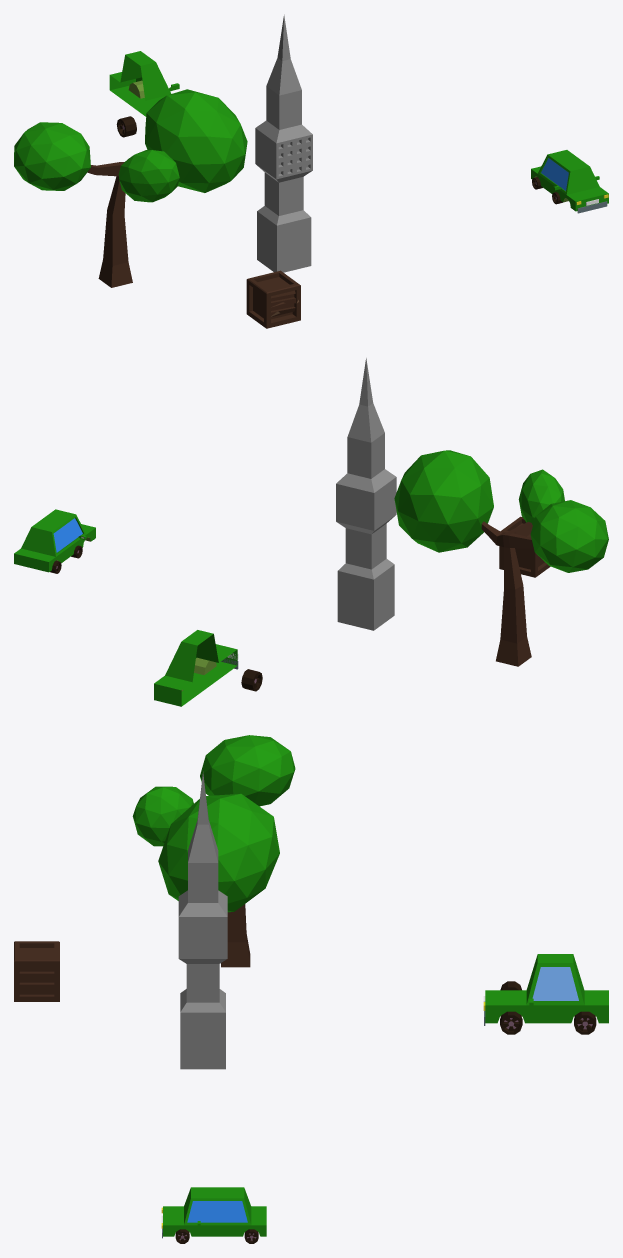
3 views of the same model, one above another, from view 1: azimuth 30°, elevation 25°; view 2: azimuth 150°, elevation 25°; view 3: azimuth 270°, elevation 25° (orthographic). The views are drawn at different scales.
Parts seen in each view (by area): view 1: tree, Cube, chassis, car2, crate; view 2: tree, Cube, car2, chassis, crate; view 3: tree, Cube, car2, chassis, crate.
Part boxes in pixels (x1=…): tree: x1=14, y1=89, x2=247, y2=287; Cube: x1=255, y1=14, x2=312, y2=272; chassis: x1=531, y1=150, x2=608, y2=213; car2: x1=109, y1=51, x2=179, y2=137; crate: x1=246, y1=270, x2=300, y2=328; tree: x1=394, y1=450, x2=608, y2=666; Cube: x1=336, y1=358, x2=396, y2=630; car2: x1=154, y1=630, x2=262, y2=706; chassis: x1=14, y1=509, x2=95, y2=572; crate: x1=499, y1=516, x2=550, y2=577; tree: x1=132, y1=735, x2=295, y2=967; Cube: x1=178, y1=771, x2=227, y2=1069; car2: x1=483, y1=954, x2=608, y2=1034; chassis: x1=161, y1=1187, x2=266, y2=1238; crate: x1=14, y1=941, x2=59, y2=1001.
Bounding box in the file's own units: 32.54 × 14.3 × 25.92.
Materials: 3 (3 with a texture image).
